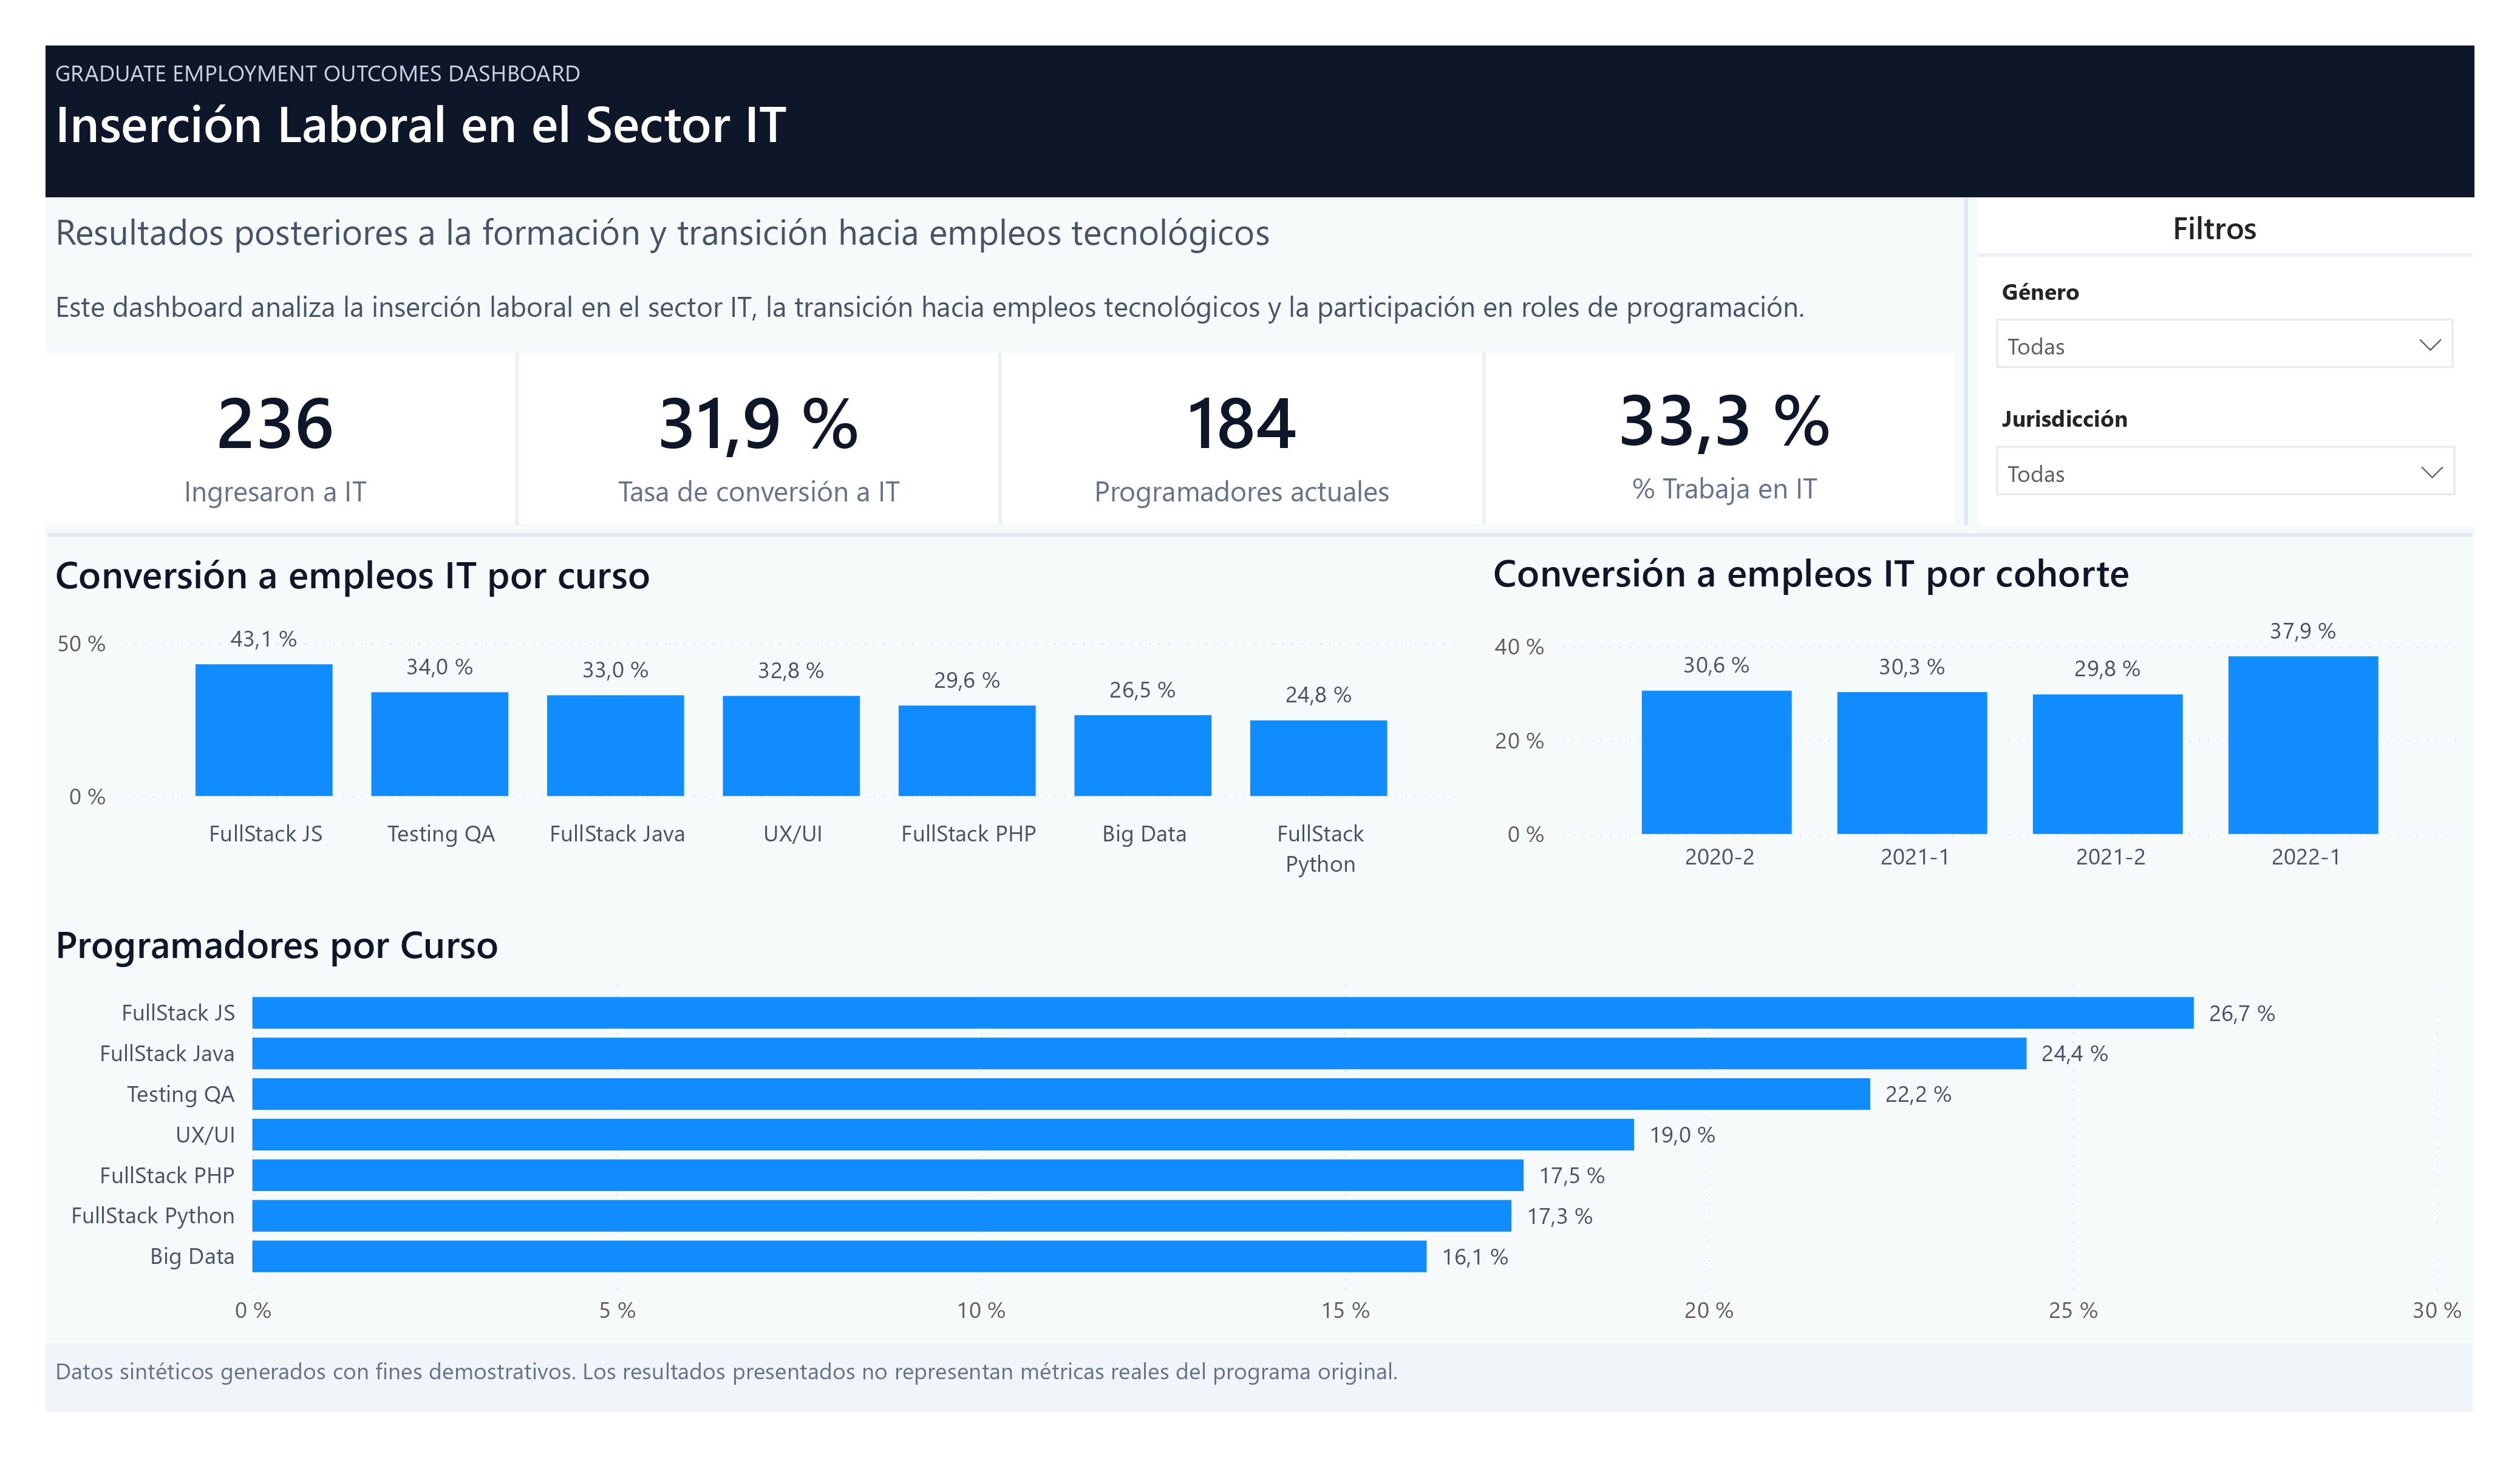

This screenshot's page, from the dashboard's own definition file:
{"tool":"powerbi","page":{"name":"Página 2","canvas":[1280,720],"ordinal":1},"visuals":[{"type":"shape","box":[0,161.6,1005.7,90.6],"z":0},{"type":"shape","box":[0,0,1280,80],"z":1000},{"type":"card","fields":{"Values":["medidas.% Conversión a IT"]},"box":[254.6,161.7,242,91.7],"z":2000},{"type":"card","fields":{"Values":["medidas.Cambio a IT"]},"box":[0,161.7,242,91.7],"z":3000},{"type":"card","fields":{"Values":["medidas.Programadores"]},"box":[509.1,161.7,242.5,91.7],"z":4000},{"type":"card","fields":{"Values":["medidas.% Trabaja en IT"]},"box":[763.7,160.5,242.5,91.7],"z":5000},{"type":"textbox","box":[0,0,692.5,63.8],"z":6000},{"type":"textbox","box":[0,80.1,1018.4,80.1],"z":7000},{"type":"shape","box":[242.5,161.7,12.1,91.7],"z":8000},{"type":"shape","box":[751.6,161.7,12.1,90.5],"z":9000},{"type":"shape","box":[497.1,161.7,12.1,91.7],"z":10000},{"type":"shape","box":[1018.3,80.2,261.9,172.7],"z":11000},{"type":"textbox","box":[1116,79.6,66.4,36.2],"z":12000},{"type":"slicer","fields":{"Values":["graduates_synthetic.Genero ES"]},"box":[1018.2,115.8,261,68],"z":13000},{"type":"slicer","fields":{"Values":["graduates_synthetic.Jurisdicción ES"]},"box":[1018.2,183.4,261.8,70],"z":14000},{"type":"shape","box":[1005.9,80.2,12.4,172.7],"z":15000},{"type":"shape","box":[1018.2,105,260.6,10.9],"z":16000},{"type":"shape","box":[1.1,251.8,1278,12.4],"z":17000},{"type":"textbox","box":[0,684.1,1278.8,36.2],"z":18000},{"type":"columnChart","title":"Conversión a empleos IT por cohorte","fields":{"Y":["medidas.% Conversión a IT"],"Category":["survey_synthetic.cohort"]},"box":[757.6,263,521.2,183.4],"z":19000},{"type":"columnChart","title":"Conversión a empleos IT por curso","fields":{"Y":["medidas.% Conversión a IT"],"Category":["survey_synthetic.Curso ES"]},"box":[0,263.6,751.4,183.2],"z":20000},{"type":"barChart","title":"Programadores por Curso","fields":{"Y":["medidas.% Programadores"],"Category":["survey_synthetic.Curso ES"]},"box":[0,458.7,1278.6,225.9],"z":21000}]}

Visuals, with their boxes on the page's 1280x720 design canvas (x1, y1, x2, y2). These are canvas units, not pixel positions in the 2520x1457 screenshot, which may show the page scaled, cropped or inside an application window:
shape: 0:162:1006:252
shape: 0:0:1280:80
card - medidas.% Conversión a IT: 255:162:497:253
card - medidas.Cambio a IT: 0:162:242:253
card - medidas.Programadores: 509:162:752:253
card - medidas.% Trabaja en IT: 764:160:1006:252
textbox: 0:0:692:64
textbox: 0:80:1018:160
shape: 242:162:255:253
shape: 752:162:764:252
shape: 497:162:509:253
shape: 1018:80:1280:253
textbox: 1116:80:1182:116
slicer - graduates_synthetic.Genero ES: 1018:116:1279:184
slicer - graduates_synthetic.Jurisdicción ES: 1018:183:1280:253
shape: 1006:80:1018:253
shape: 1018:105:1279:116
shape: 1:252:1279:264
textbox: 0:684:1279:720
"Conversión a empleos IT por cohorte" columnChart: 758:263:1279:446
"Conversión a empleos IT por curso" columnChart: 0:264:751:447
"Programadores por Curso" barChart: 0:459:1279:685
